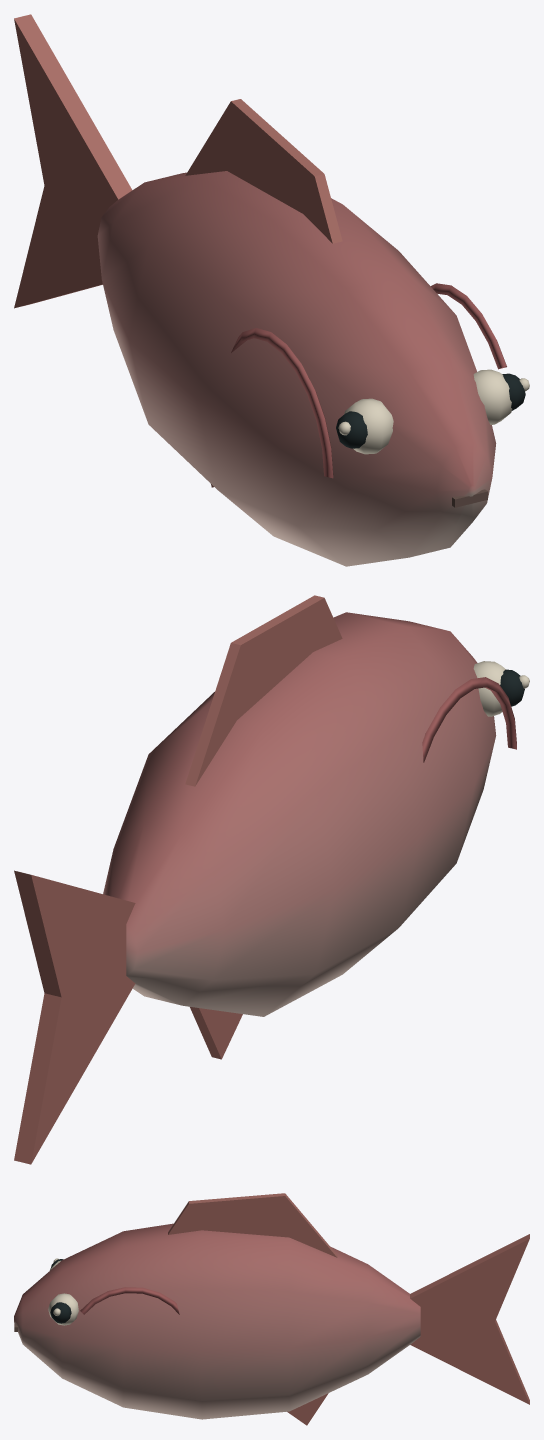
Rendered from komachi-sea-bream.glb.
3 views of the same model, one above another, from view 1: azimuth 30°, elevation 25°; view 2: azimuth 150°, elevation 25°; view 3: azimuth 270°, elevation 25° (orthographic). The views are drawn at different scales.
Parts seen in each view (by area): view 1: Fish_Body, Fish_Tail_Fin; view 2: Fish_Body, Fish_Tail_Fin; view 3: Fish_Body, Fish_Tail_Fin.
Boxes of the visible parts, bbox=[...] form: Fish_Body: bbox=[97, 99, 529, 566]; Fish_Tail_Fin: bbox=[14, 14, 132, 308]; Fish_Body: bbox=[103, 595, 529, 1059]; Fish_Tail_Fin: bbox=[14, 870, 135, 1164]; Fish_Body: bbox=[14, 1193, 420, 1425]; Fish_Tail_Fin: bbox=[410, 1234, 529, 1404].
Bounding box in the file's own units: 0.068 × 0.116 × 0.236.
